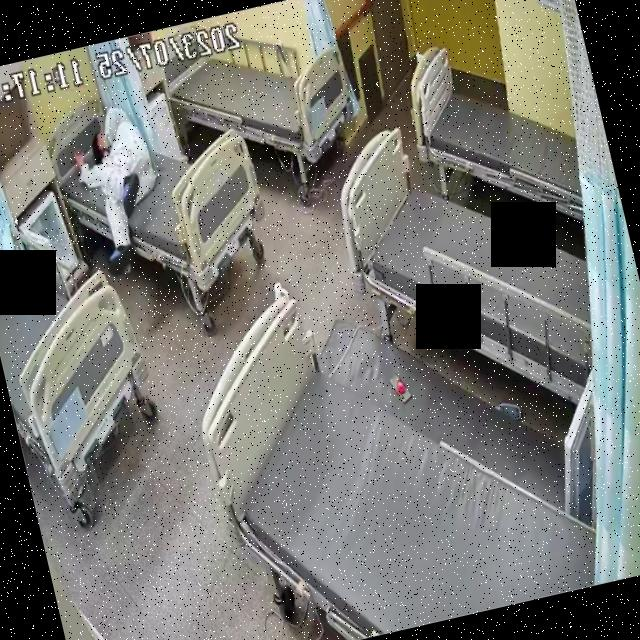bed: (186, 249, 608, 640), (326, 96, 620, 435), (0, 187, 166, 503), (43, 74, 275, 296), (396, 19, 594, 248), (158, 8, 358, 188)
danger: (66, 95, 177, 278)
patient: (66, 96, 176, 277)
